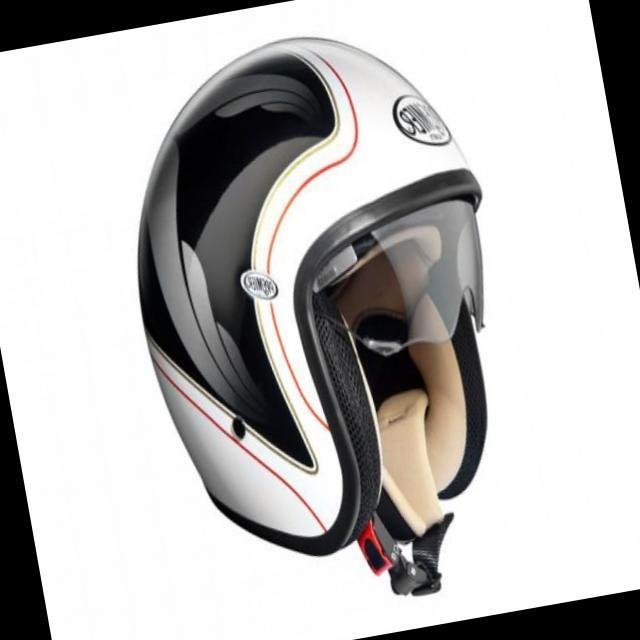Helm: (92, 3, 552, 640)
